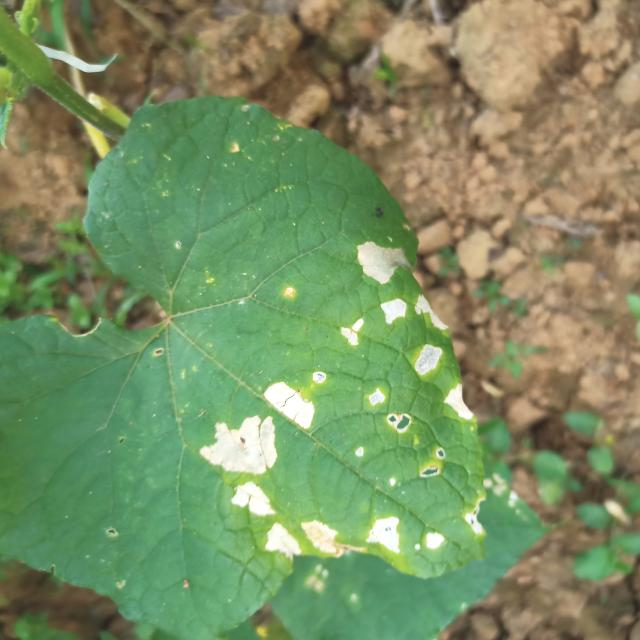disease_cucumber: (201, 381, 317, 476), (367, 516, 452, 556), (374, 292, 448, 332), (259, 522, 341, 556), (353, 240, 409, 285), (365, 386, 414, 434), (227, 482, 280, 520), (442, 382, 471, 430), (336, 314, 370, 354), (407, 344, 448, 376)
